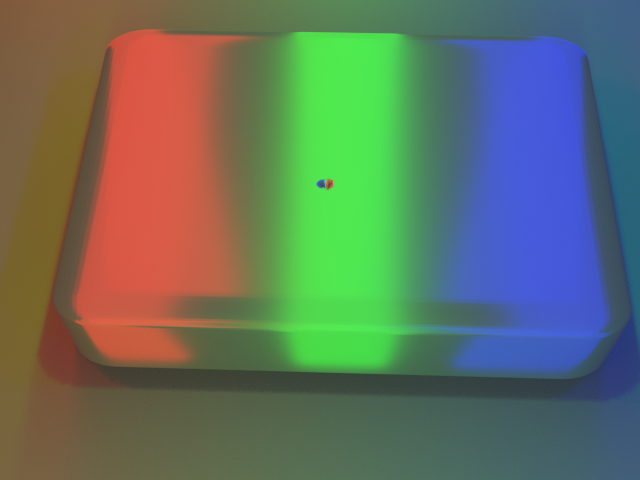dent: (302, 163, 342, 206)
